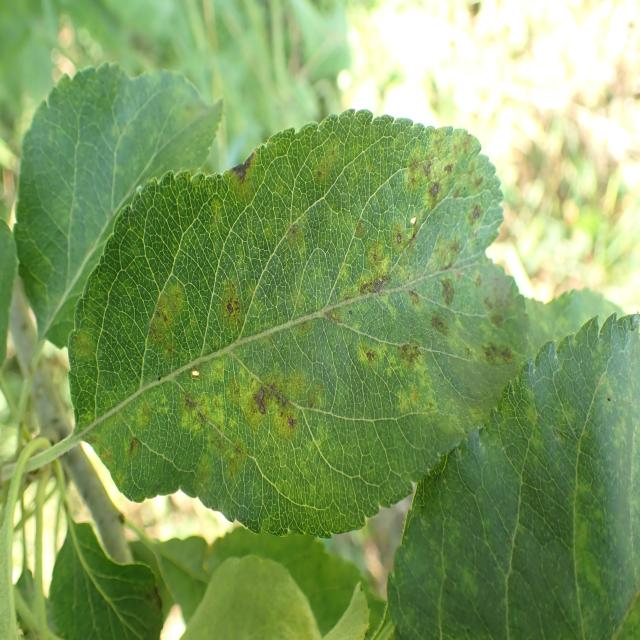scab: (71, 142, 519, 524), (385, 332, 639, 633)
